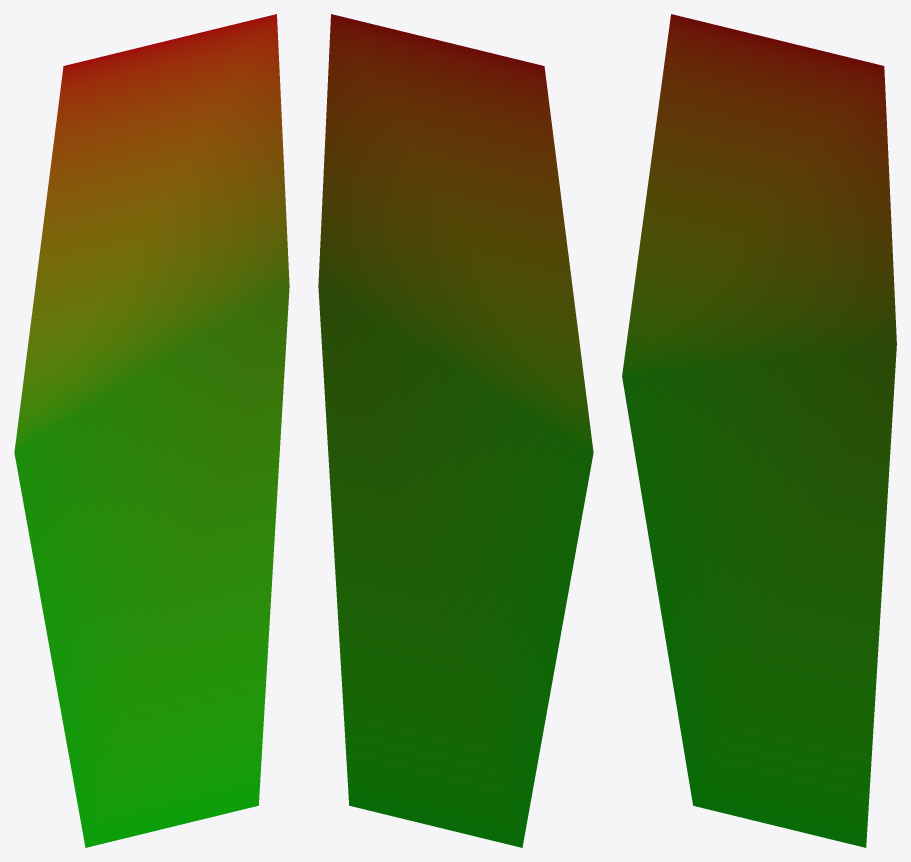
The model's file is Sunflower_LOD3_Var4.fbx.
3 renders of one model, left to right at view 1: azimuth 30°, elevation 25°; view 2: azimuth 150°, elevation 25°; view 3: azimuth 330°, elevation 25°, orthographic.
Visible parts, largest first — view 1: _470d_Var4_LOD3; view 2: _470d_Var4_LOD3; view 3: _470d_Var4_LOD3.
Boxes of the visible parts, <box> form: _470d_Var4_LOD3: <box>14,14,289,847</box>; _470d_Var4_LOD3: <box>318,14,593,847</box>; _470d_Var4_LOD3: <box>622,14,896,847</box>.
Bounding box in the file's own units: 32.87 × 89.85 × 1.16e-06.
